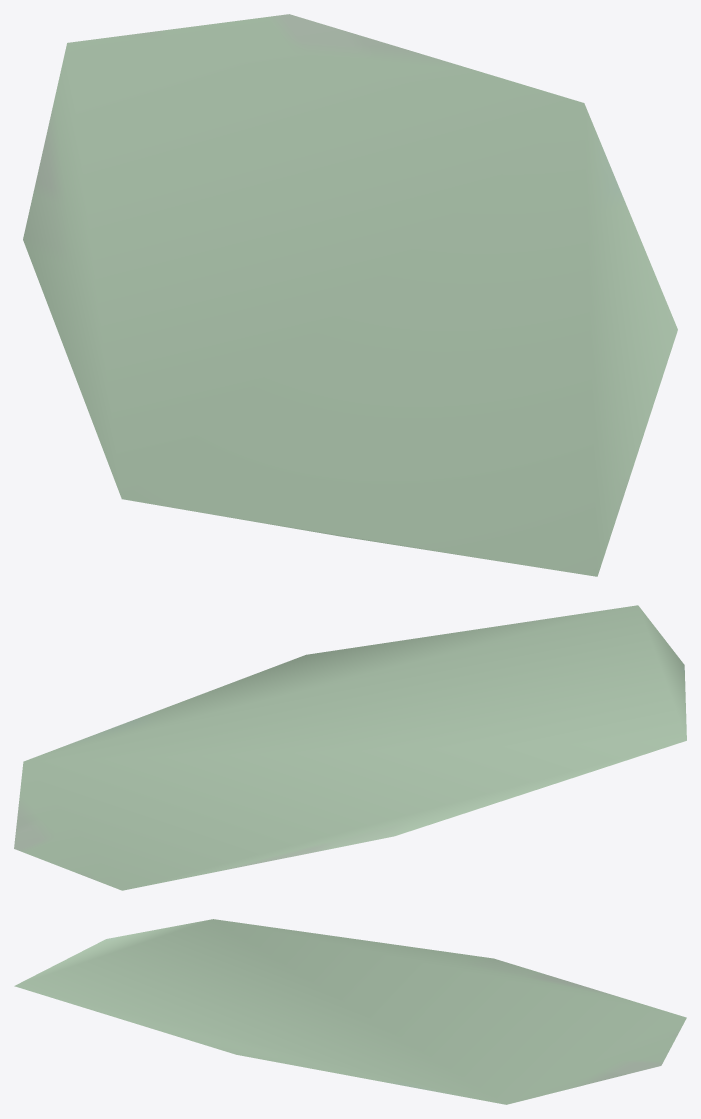
Rendered from TROLLHOLE02_HOLECAP151.fbx.
3 views of the same model, one above another, from view 1: azimuth 30°, elevation 25°; view 2: azimuth 150°, elevation 25°; view 3: azimuth 270°, elevation 25° (orthographic). The views are drawn at different scales.
Parts seen in each view (by area): view 1: TROLLHOLE02_HOLECAP151; view 2: TROLLHOLE02_HOLECAP151; view 3: TROLLHOLE02_HOLECAP151.
Part boxes in pixels (x1,y1,x2,y2): TROLLHOLE02_HOLECAP151: (23, 14, 677, 576); TROLLHOLE02_HOLECAP151: (14, 605, 686, 890); TROLLHOLE02_HOLECAP151: (14, 919, 686, 1104).
Bounding box in the file's own units: 32511 × 700 × 50151.
Materials: 1 (1 with a texture image).
